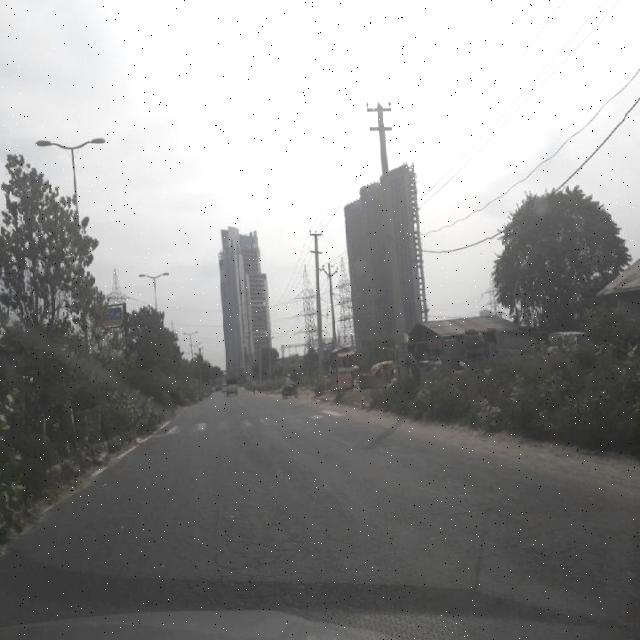D20: (402, 464, 640, 639), (146, 441, 396, 604)
D43: (156, 404, 348, 444)
